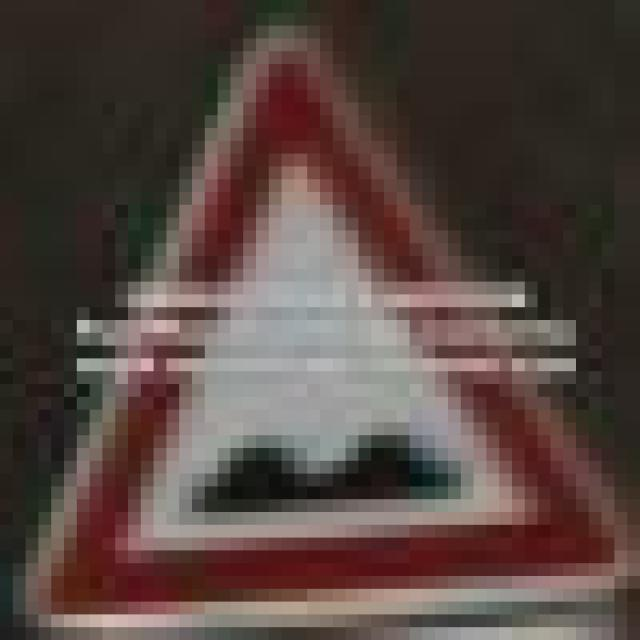horn_prohibited: (13, 12, 627, 602)
